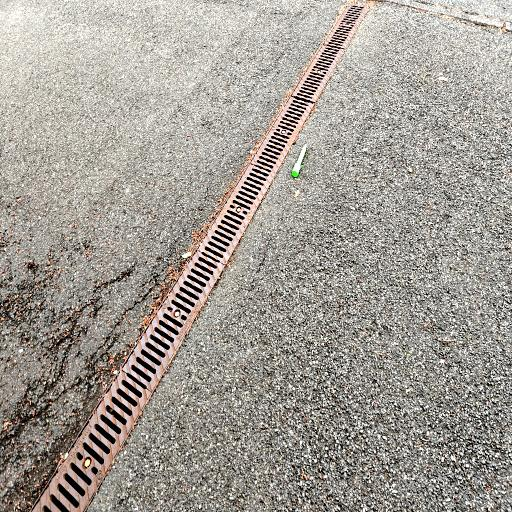Probe-Detection: (292, 145, 307, 177)
